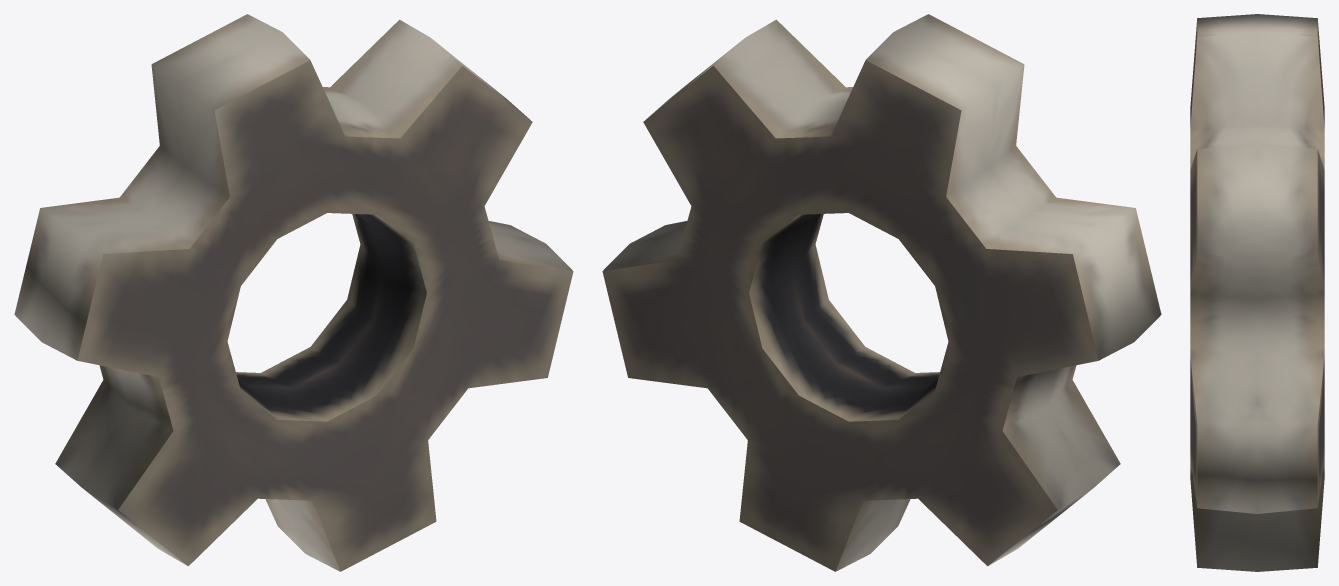
The model's file is Rouage.FBX.
The picture shows the model from 3 angles, left to right: view 1: azimuth 30°, elevation 25°; view 2: azimuth 150°, elevation 25°; view 3: azimuth 270°, elevation 25°; orthographic projection. The views are drawn at different scales.
Parts seen in each view (by area): view 1: PRouage; view 2: PRouage; view 3: PRouage.
Boxes of the visible parts, x1,y1,x2,y2 form: PRouage: [14, 14, 573, 571]; PRouage: [602, 14, 1161, 571]; PRouage: [1190, 14, 1324, 571].
Bounding box in the file's own units: 0.7289 × 0.7289 × 0.1754.
